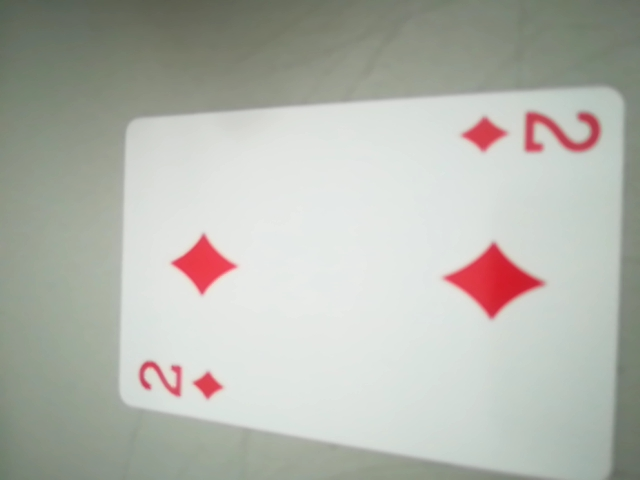fk 2: (458, 96, 608, 170), (131, 349, 237, 409)
